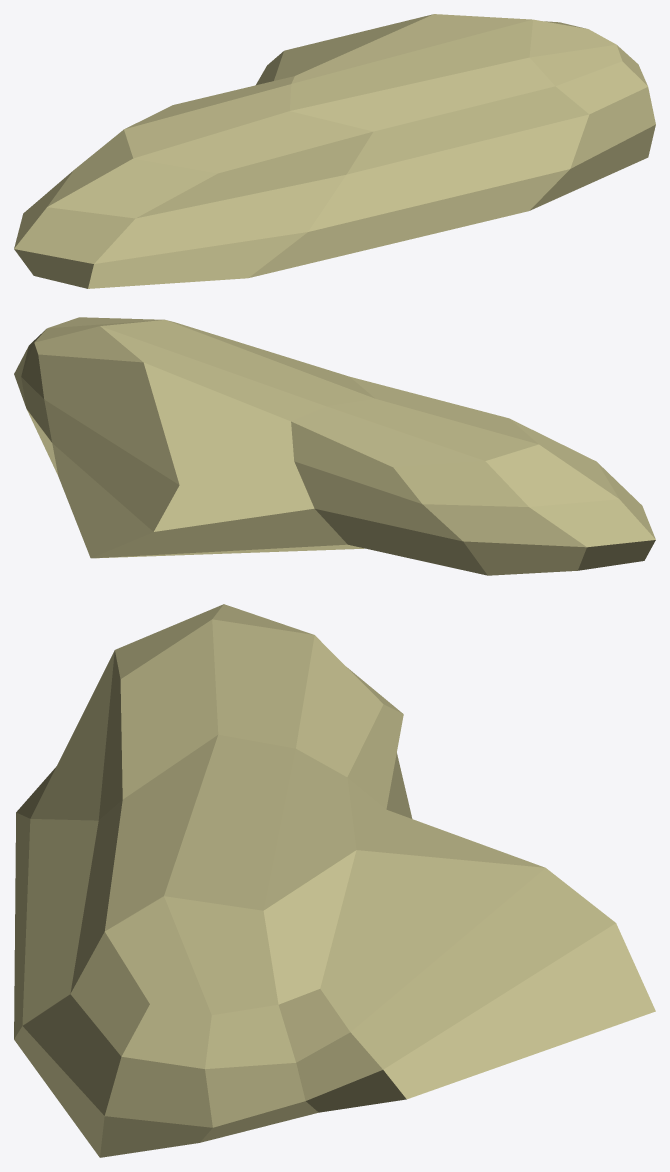
The model's file is RockC.fbx.
The picture shows the model from 3 angles, top to bottom: view 1: azimuth 30°, elevation 25°; view 2: azimuth 150°, elevation 25°; view 3: azimuth 270°, elevation 25°; orthographic projection. The views are drawn at different scales.
Parts seen in each view (by area): view 1: RockC; view 2: RockC; view 3: RockC.
Part boxes in pixels (x1,y1,x2,y2): RockC: (14, 14, 655, 288); RockC: (14, 317, 655, 575); RockC: (14, 604, 655, 1157).
Bounding box in the file's own units: 210 × 39.66 × 112.
